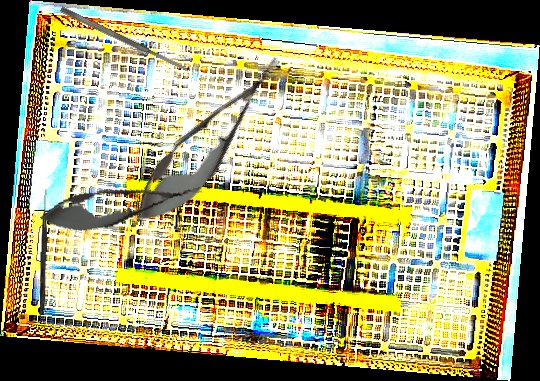Hook Surgical: (39, 188, 48, 316)
Micro Scissor: (119, 41, 298, 241), (37, 169, 206, 241)
Spatula Surgical: (59, 5, 190, 75)
